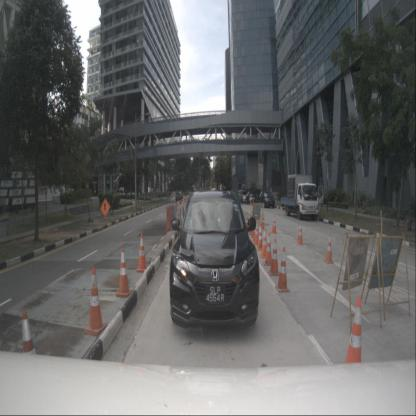barrier: (162, 205, 174, 235)
cone: (16, 311, 43, 407), (84, 267, 107, 337), (342, 297, 363, 372), (116, 249, 132, 298), (275, 246, 290, 292), (136, 234, 149, 273), (269, 238, 280, 276), (323, 232, 334, 264), (264, 231, 274, 265), (260, 228, 268, 258), (296, 221, 304, 245), (257, 223, 264, 250), (270, 214, 278, 235), (254, 220, 260, 245), (252, 218, 258, 241), (261, 210, 266, 230), (244, 210, 249, 230)
